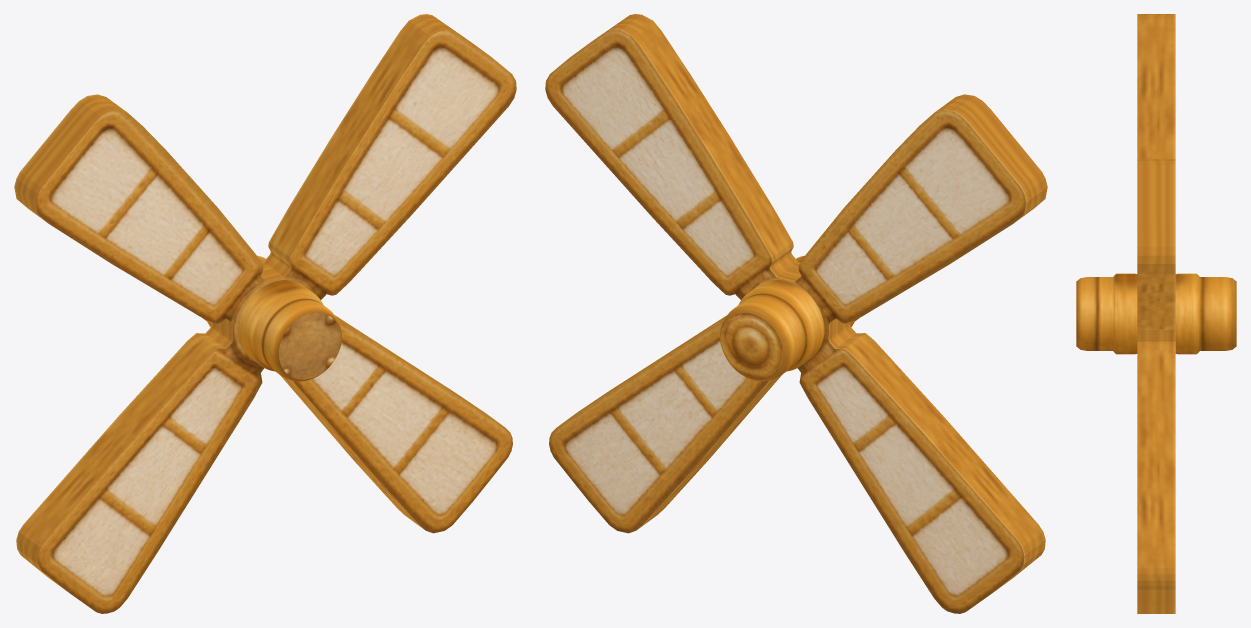
The model's file is rotor-contour.glb.
3 renders of one model, left to right at view 1: azimuth 30°, elevation 25°; view 2: azimuth 150°, elevation 25°; view 3: azimuth 270°, elevation 25°, orthographic. The views are drawn at different scales.
Size of the model in its own units: 1 by 0.9989 by 0.3217.
1 material, 1 textured.
